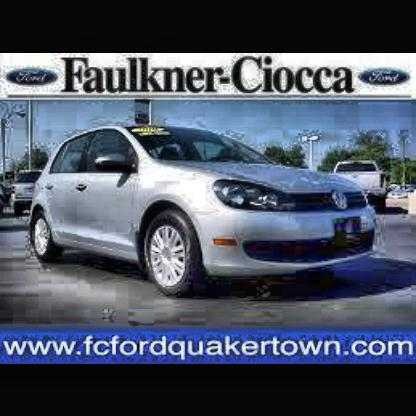Volkswagen Golf Hatchback 2012: (29, 128, 388, 306)
